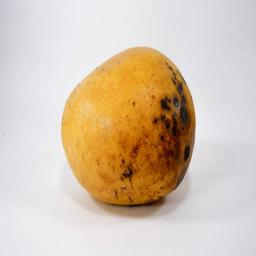Mango Semirotten: (55, 44, 205, 213)
